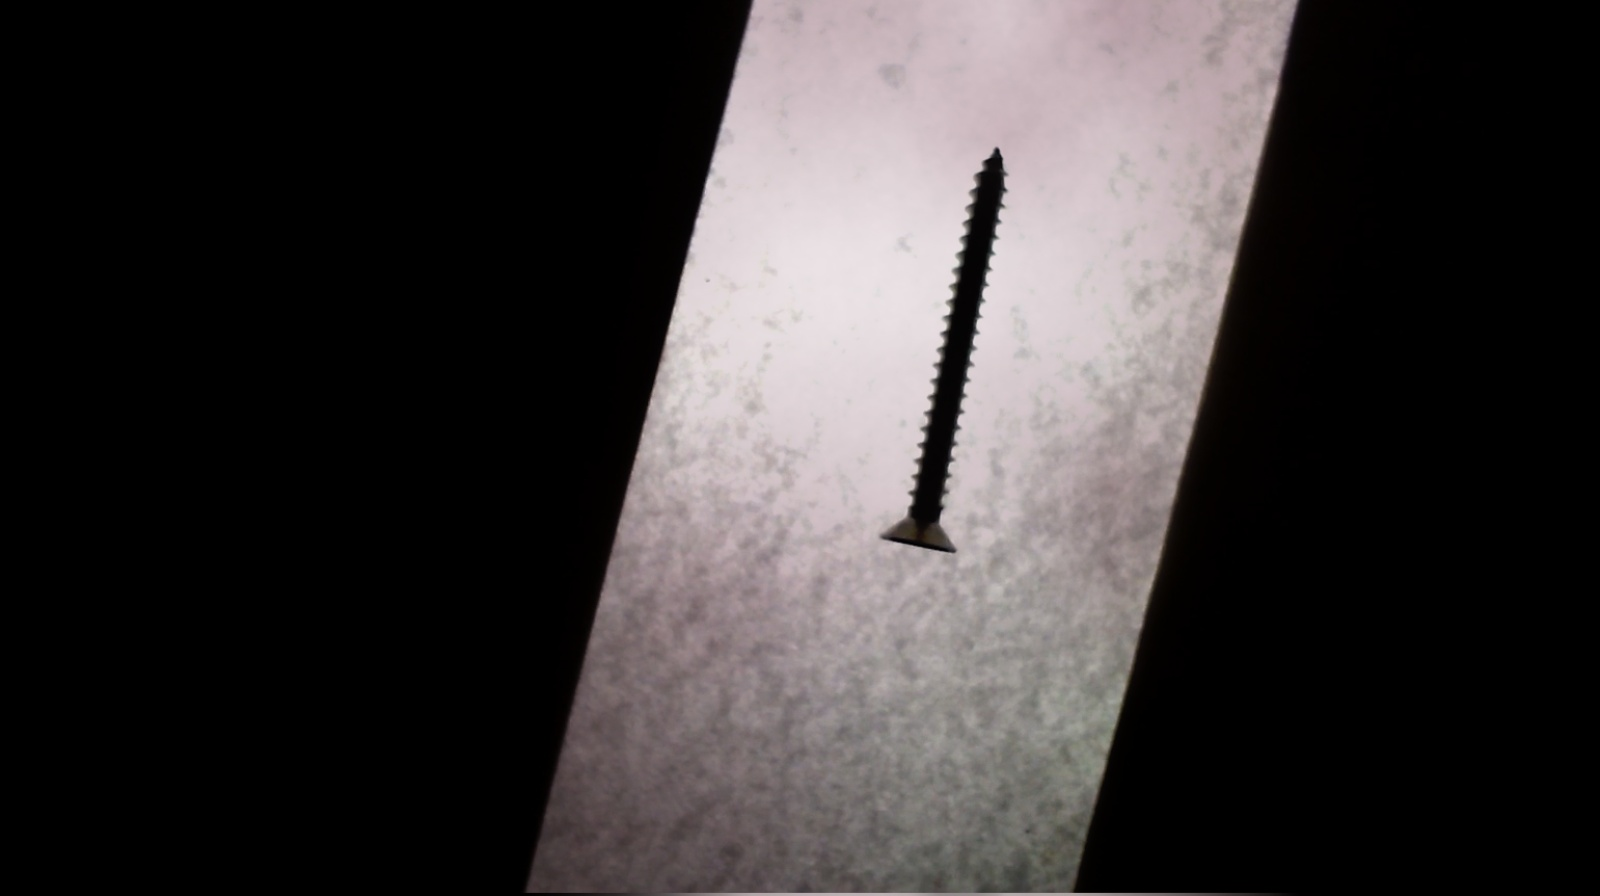S002: (858, 141, 1041, 561)
